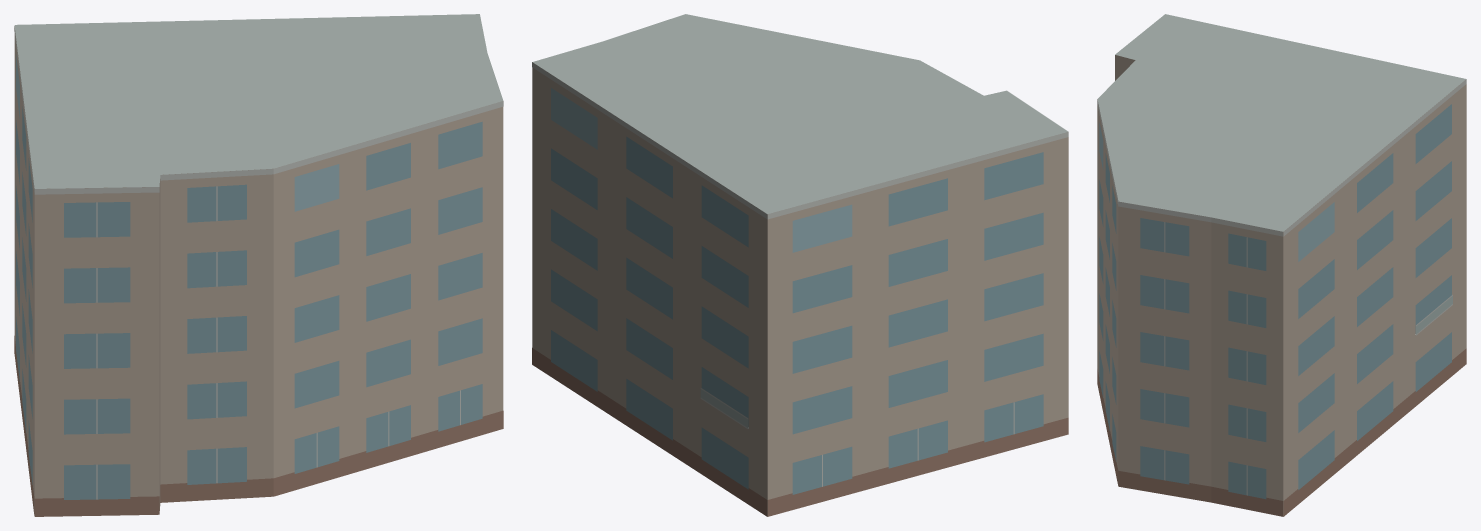
File: survey-upis-32746313.glb
3 renders of one model, left to right at view 1: azimuth 30°, elevation 25°; view 2: azimuth 150°, elevation 25°; view 3: azimuth 270°, elevation 25°, orthographic. The views are drawn at different scales.
Parts seen in each view (by area): view 1: survey-upis-32746313.tmp; view 2: survey-upis-32746313.tmp; view 3: survey-upis-32746313.tmp.
Part boxes in pixels (x1,y1,x2,y2): survey-upis-32746313.tmp: (14, 14, 503, 516); survey-upis-32746313.tmp: (532, 14, 1068, 516); survey-upis-32746313.tmp: (1097, 14, 1466, 516).
Bounding box in the file's own units: 23.11 × 14.1 × 16.55.
